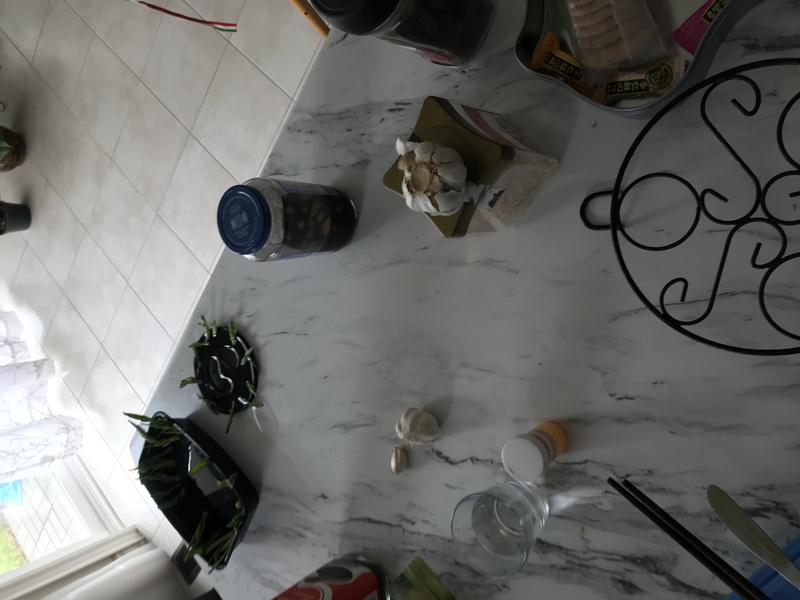garlic: (395, 134, 473, 219), (389, 394, 449, 447), (380, 441, 417, 478)
